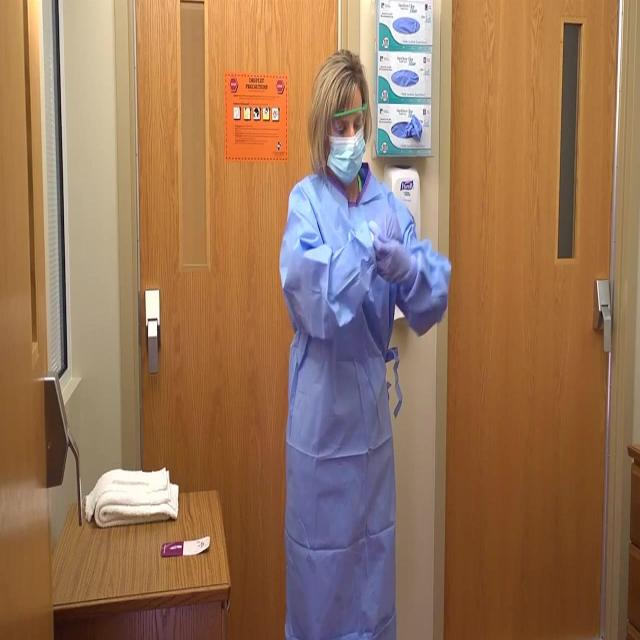Face_Shield: (320, 104, 374, 181)
Gloves: (368, 224, 414, 295)
